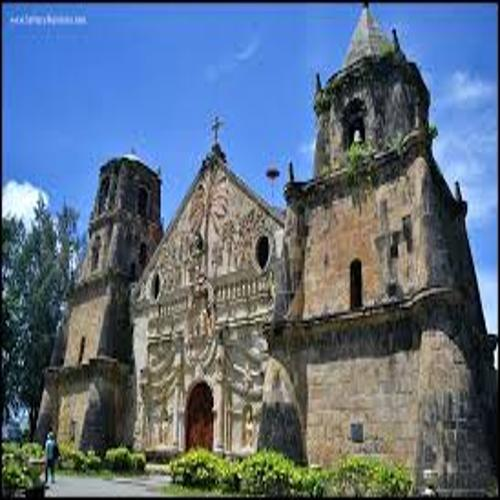Miagao Church: (50, 16, 487, 470)
